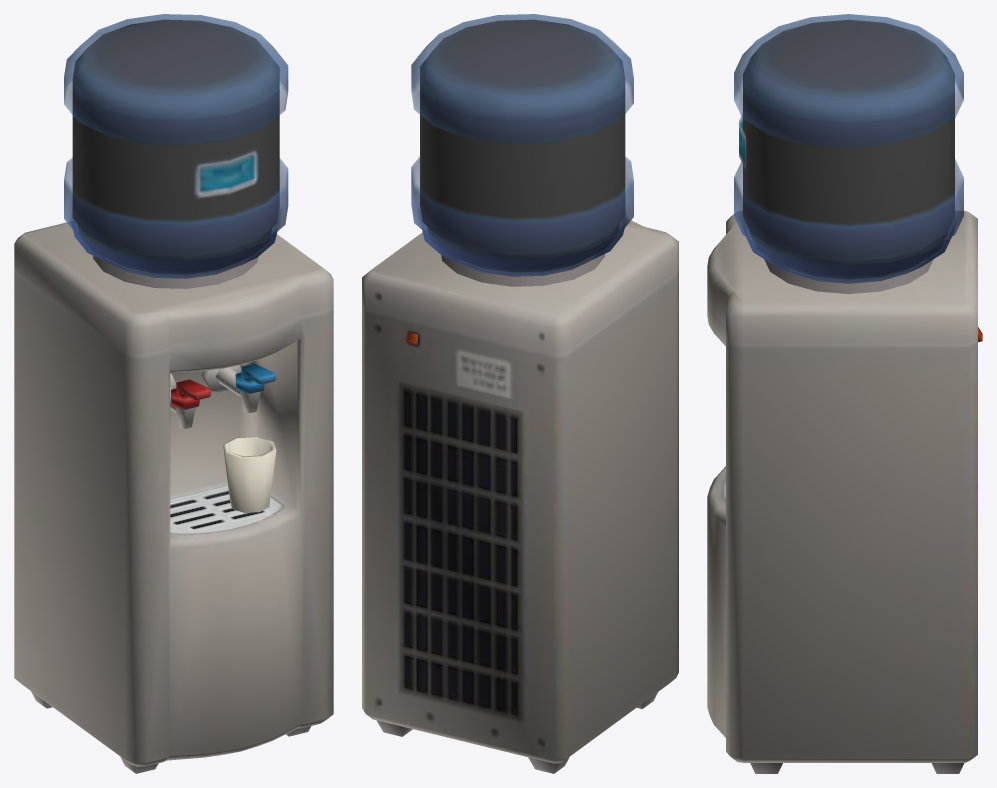
Rendered from water-cooler.glb.
3 renders of one model, left to right at view 1: azimuth 30°, elevation 25°; view 2: azimuth 150°, elevation 25°; view 3: azimuth 270°, elevation 25°, orthographic. The views are drawn at different scales.
Bounding box in the file's own units: 5.56 × 17.12 × 6.33.
4 materials, 4 textured.
